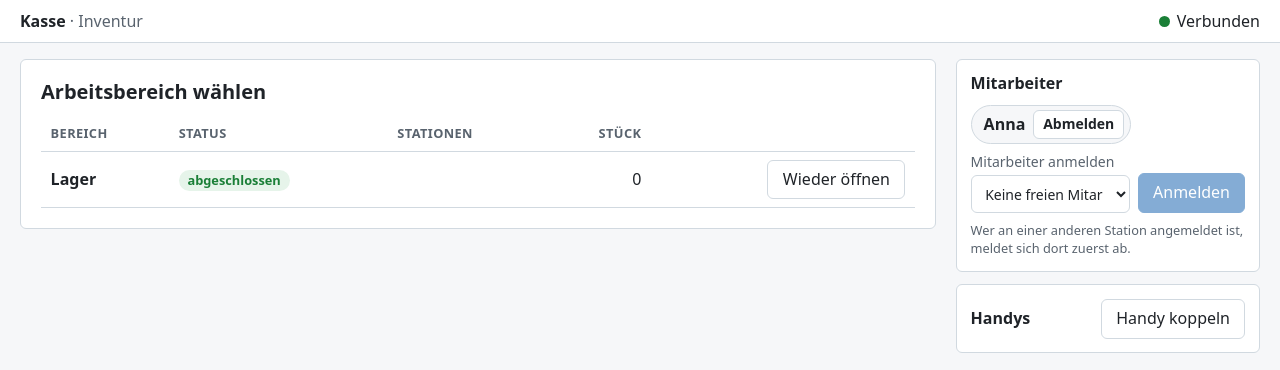
Test case: work area selection at the workstation › reopens a closed work area
What coordinates should you click on to do the following:
click the button "Wieder öffnen"
I would click on:
 (836, 180)
Its box is [768,160,905,200].
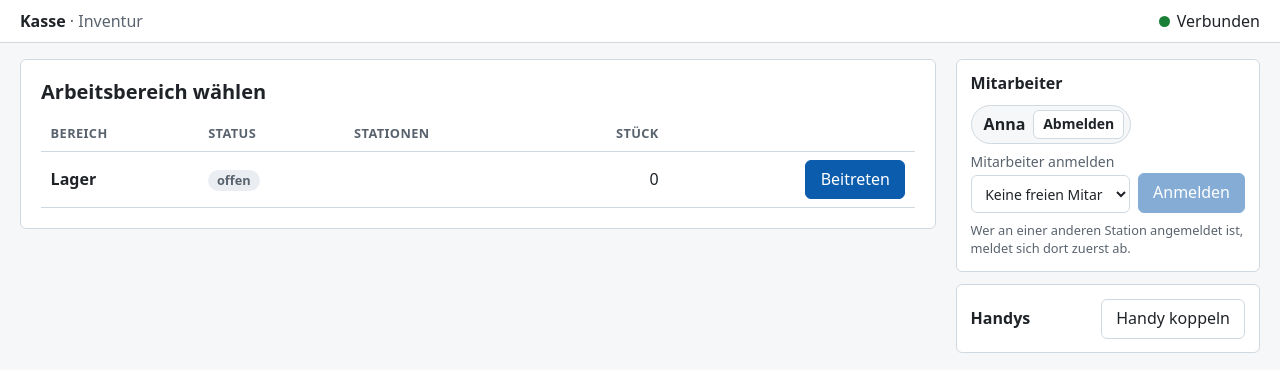
Check: the button "Beitreten" is shown, box [805,160,905,200]
